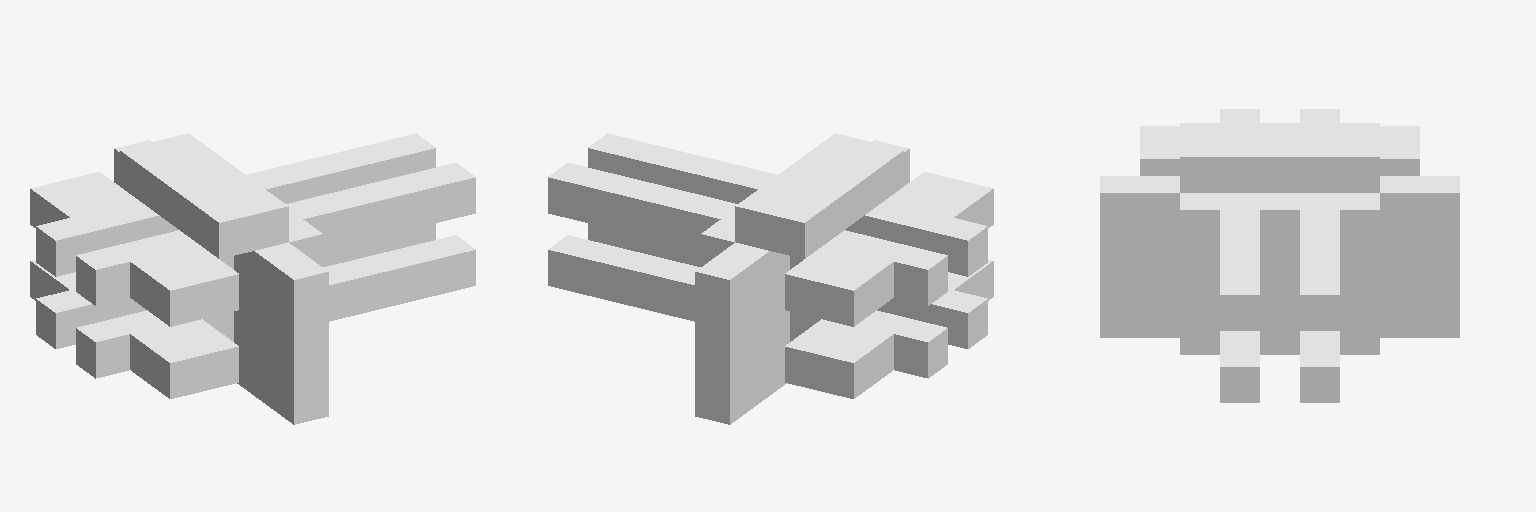
The model's file is flak38quad_gun.obj.
3 renders of one model, left to right at view 1: azimuth 30°, elevation 25°; view 2: azimuth 150°, elevation 25°; view 3: azimuth 270°, elevation 25°, orthographic.
Visible parts, largest first — view 1: flak38quad_gun; view 2: flak38quad_gun; view 3: flak38quad_gun.
Part boxes in pixels (left/top/right/bottom): flak38quad_gun: left=30, top=133, right=475, bottom=424; flak38quad_gun: left=548, top=133, right=993, bottom=424; flak38quad_gun: left=1100, top=109, right=1459, bottom=402.
Bounding box in the file's own units: 11 × 5 × 9.